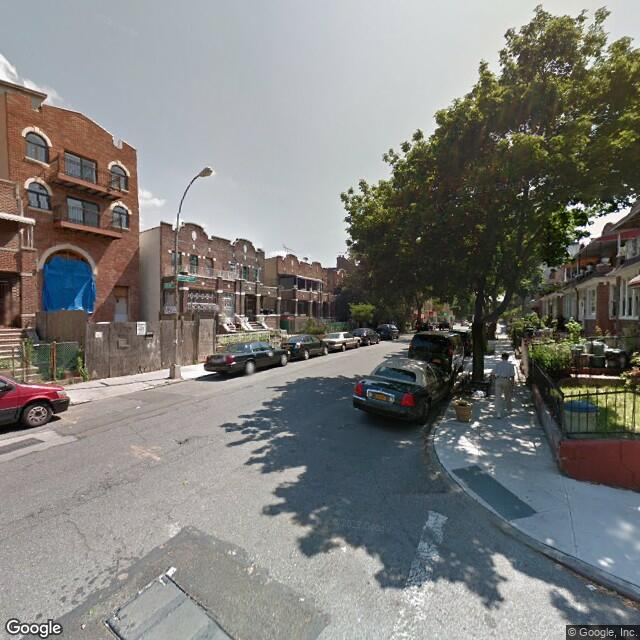litter: (134, 404, 141, 410)
